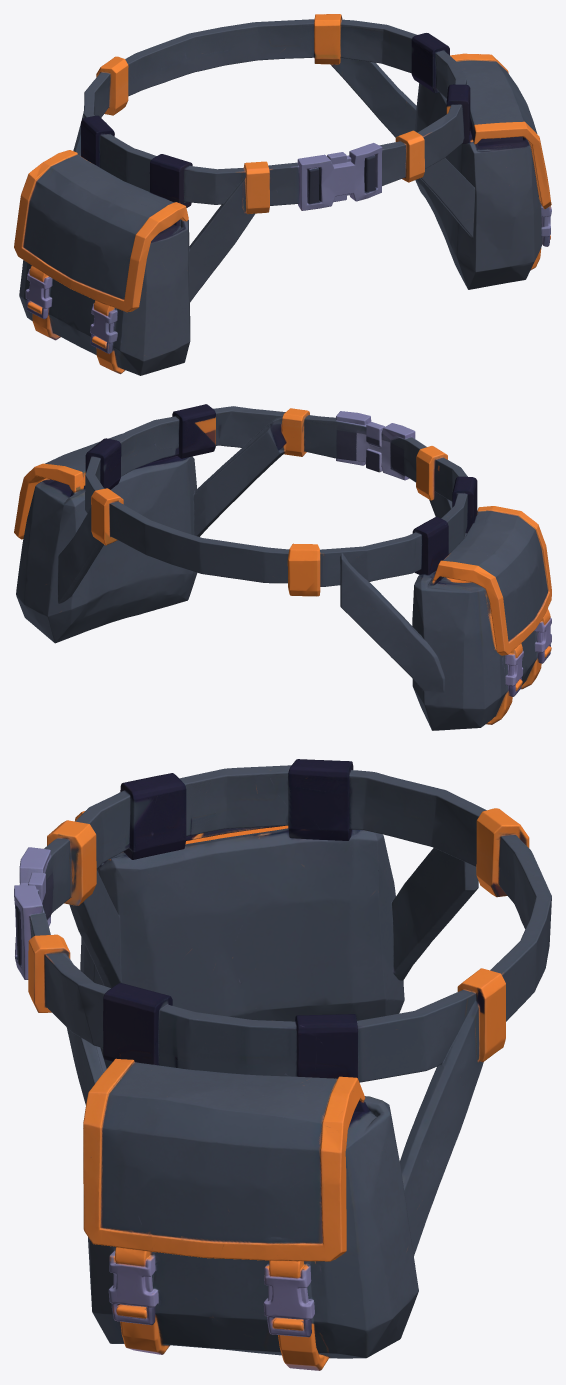
File: dual_waist_bag.glb
3 renders of one model, top to bottom at view 1: azimuth 30°, elevation 25°; view 2: azimuth 150°, elevation 25°; view 3: azimuth 270°, elevation 25°, orthographic. The views are drawn at different scales.
Bounding box in the file's own units: 1.9 × 0.7241 × 1.13.
Materials: 1 (1 with a texture image).
